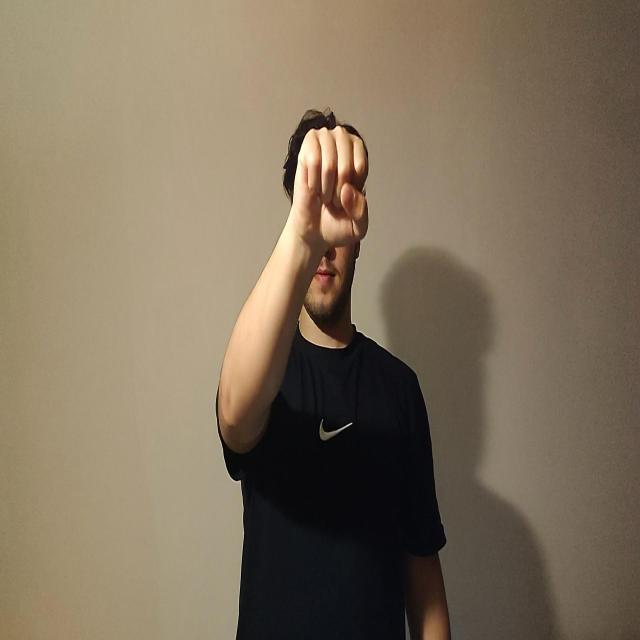yes: (291, 122, 369, 255)
